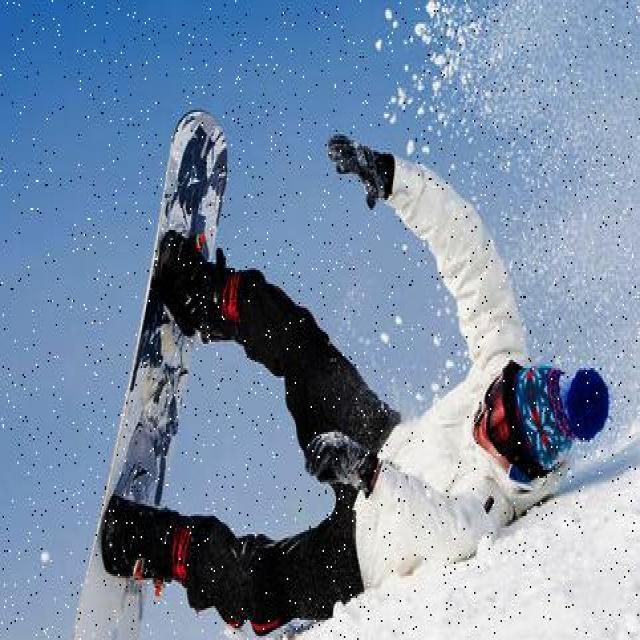fall: (174, 152, 580, 622)
